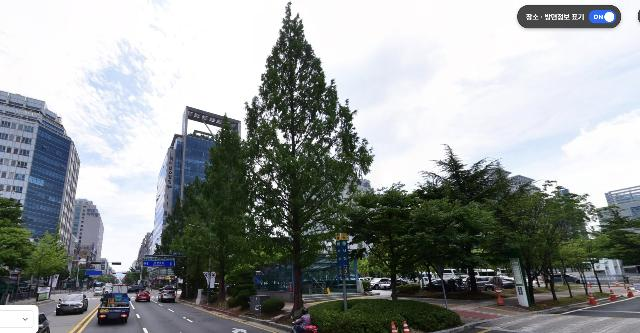other: (237, 1, 377, 321), (176, 112, 266, 307), (414, 143, 527, 297), (348, 181, 465, 303), (497, 180, 579, 308), (566, 203, 640, 303), (0, 198, 46, 297), (26, 231, 70, 300)
